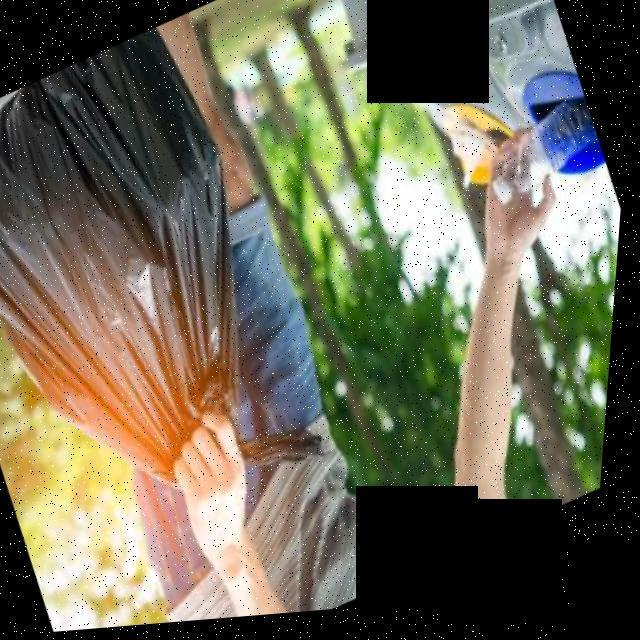bin: (283, 0, 568, 257), (378, 0, 624, 237)
